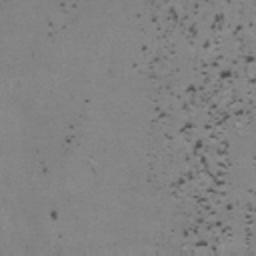Oxide scale of temperature system: (151, 7, 256, 247), (149, 56, 161, 70), (245, 228, 253, 245), (64, 135, 76, 144), (50, 209, 58, 221)
